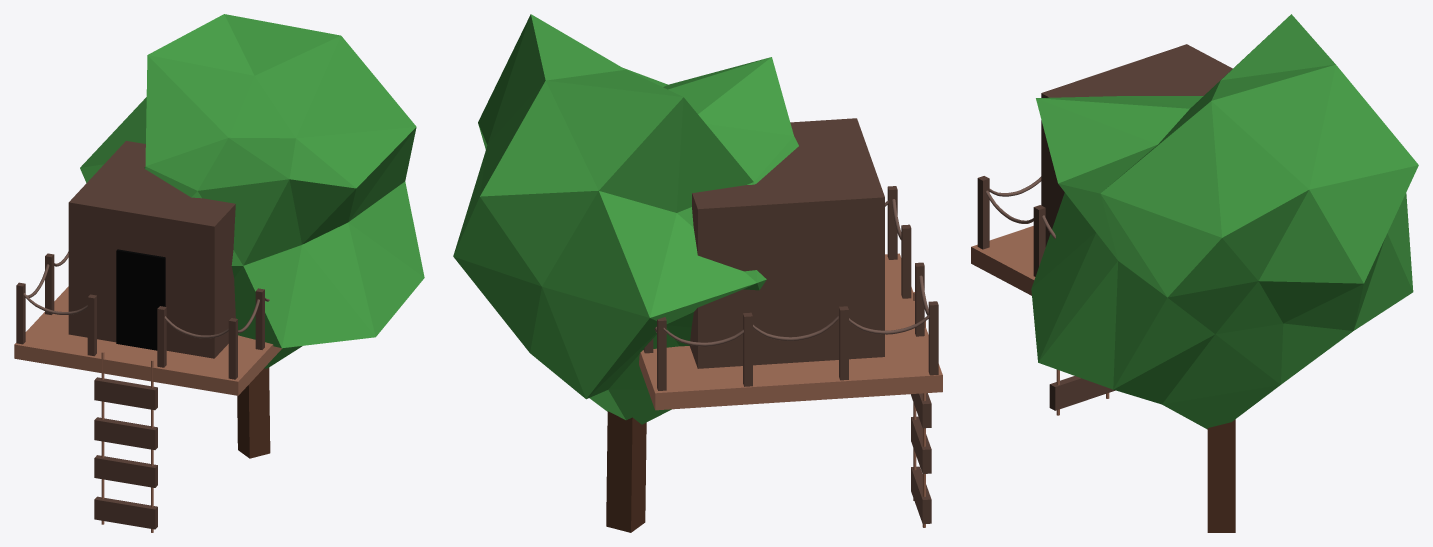
The model's file is Tree_House.fbx.
3 views of the same model, side by side, from view 1: azimuth 30°, elevation 25°; view 2: azimuth 150°, elevation 25°; view 3: azimuth 270°, elevation 25° (orthographic). The views are drawn at different scales.
Parts seen in each view (by area): view 1: tree_2, pCube13; view 2: tree_2, pCube13; view 3: tree_2, pCube13.
Part boxes in pixels (x1,y1,x2,y2): tree_2: (80, 14, 424, 458); pCube13: (14, 141, 281, 532); tree_2: (453, 14, 798, 532); pCube13: (639, 118, 942, 527); tree_2: (1031, 14, 1418, 532); pCube13: (971, 44, 1232, 415).
Size of the model in its own units: 71.93 by 72.31 by 61.86.
